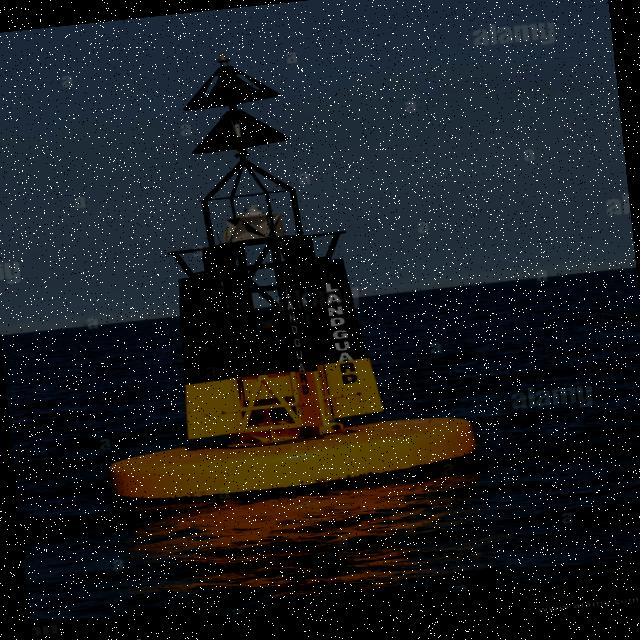marque: (78, 37, 486, 517)
